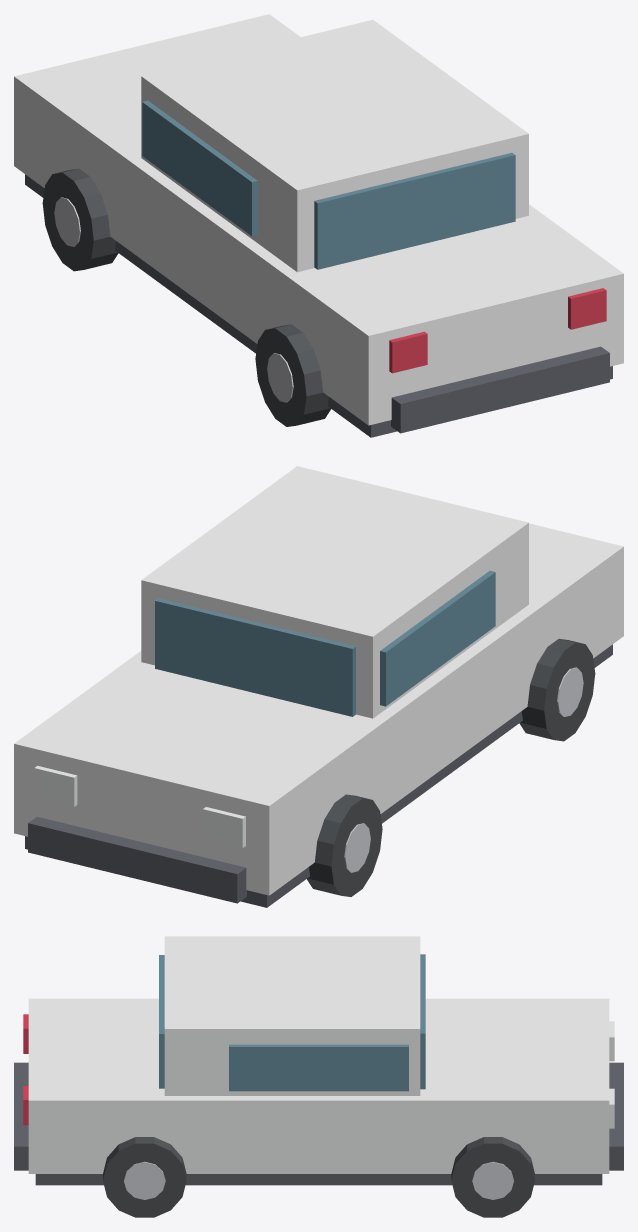
File: onix.glb
3 views of the same model, one above another, from view 1: azimuth 30°, elevation 25°; view 2: azimuth 150°, elevation 25°; view 3: azimuth 270°, elevation 25° (orthographic). The views are drawn at different scales.
Visible parts, largest first — view 1: BODY_main, BODY_cabin, WINDOW_rear, BODY_bumper_rear, WINDOW_side_-1, WHEEL_-1_1.248, WHEEL_-1_-1.248, BODY_lower, LIGHT_rear_-1, LIGHT_rear_1, WHEEL_-1_1.248_hub, WHEEL_-1_-1.248_hub; view 2: BODY_main, BODY_cabin, WINDOW_front, BODY_bumper_front, WINDOW_side_-1, WHEEL_-1_-1.248, WHEEL_-1_1.248, BODY_lower, LIGHT_front_1, LIGHT_front_-1, WHEEL_-1_-1.248_hub, WHEEL_-1_1.248_hub; view 3: BODY_main, BODY_cabin, WINDOW_side_1, BODY_lower, WHEEL_1_-1.248, WHEEL_1_1.248, BODY_bumper_front, BODY_bumper_rear, WHEEL_1_-1.248_hub, WHEEL_1_1.248_hub, WINDOW_front, WINDOW_rear.
Part boxes in pixels (left/top/right/bottom): BODY_main: left=14, top=14, right=623, bottom=425; BODY_cabin: left=141, top=19, right=528, bottom=272; WINDOW_rear: left=314, top=152, right=515, bottom=269; BODY_bumper_rear: left=391, top=346, right=609, bottom=433; WINDOW_side_-1: left=142, top=100, right=257, bottom=236; WHEEL_-1_1.248: left=255, top=324, right=330, bottom=426; WHEEL_-1_-1.248: left=42, top=168, right=118, bottom=271; BODY_lower: left=25, top=174, right=612, bottom=437; LIGHT_rear_-1: left=389, top=331, right=427, bottom=373; LIGHT_rear_1: left=568, top=288, right=606, bottom=329; WHEEL_-1_1.248_hub: left=267, top=353, right=293, bottom=402; WHEEL_-1_-1.248_hub: left=54, top=197, right=80, bottom=246; BODY_main: left=14, top=523, right=623, bottom=895; BODY_cabin: left=141, top=466, right=528, bottom=718; WINDOW_front: left=155, top=598, right=355, bottom=716; BODY_bumper_front: left=28, top=816, right=246, bottom=903; WINDOW_side_-1: left=380, top=570, right=495, bottom=706; WHEEL_-1_-1.248: left=307, top=794, right=382, bottom=896; WHEEL_-1_1.248: left=519, top=638, right=595, bottom=741; BODY_lower: left=25, top=644, right=612, bottom=907; LIGHT_front_1: left=34, top=765, right=77, bottom=806; LIGHT_front_-1: left=203, top=807, right=245, bottom=848; WHEEL_-1_-1.248_hub: left=344, top=823, right=370, bottom=872; WHEEL_-1_1.248_hub: left=557, top=667, right=583, bottom=716; BODY_main: left=28, top=998, right=609, bottom=1173; BODY_cabin: left=164, top=936, right=420, bottom=1095; WINDOW_side_1: left=229, top=1044, right=408, bottom=1091; BODY_lower: left=35, top=1174, right=602, bottom=1185; WHEEL_1_-1.248: left=451, top=1137, right=534, bottom=1217; WHEEL_1_1.248: left=103, top=1137, right=186, bottom=1217; BODY_bumper_front: left=609, top=1062, right=623, bottom=1170; BODY_bumper_rear: left=14, top=1062, right=28, bottom=1170; WHEEL_1_-1.248_hub: left=472, top=1161, right=513, bottom=1199; WHEEL_1_1.248_hub: left=124, top=1161, right=165, bottom=1199; WINDOW_front: left=420, top=954, right=425, bottom=1089; WINDOW_rear: left=159, top=955, right=164, bottom=1088.
Size of the model in its own units: 1.97 by 1.4 by 4.37.
